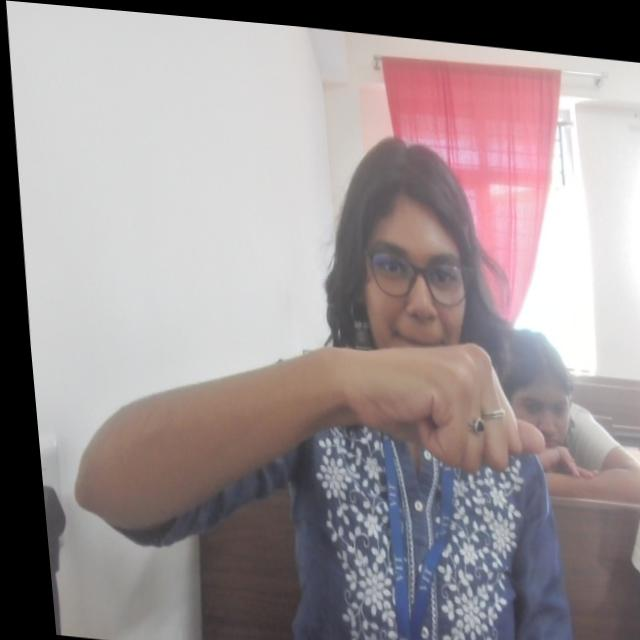yes: (410, 328, 542, 477)
